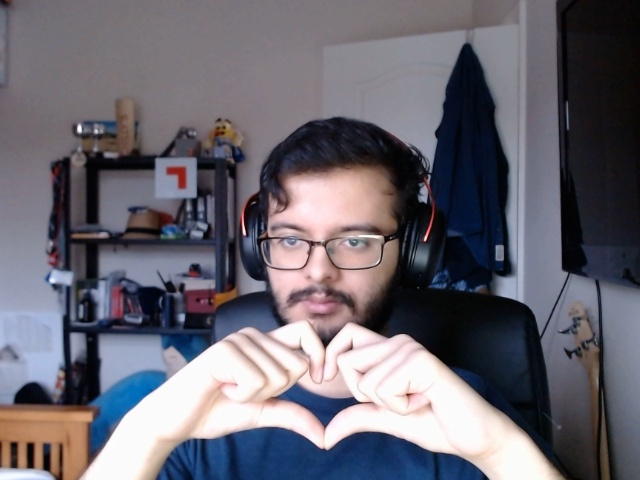Heart: (147, 318, 492, 473)
